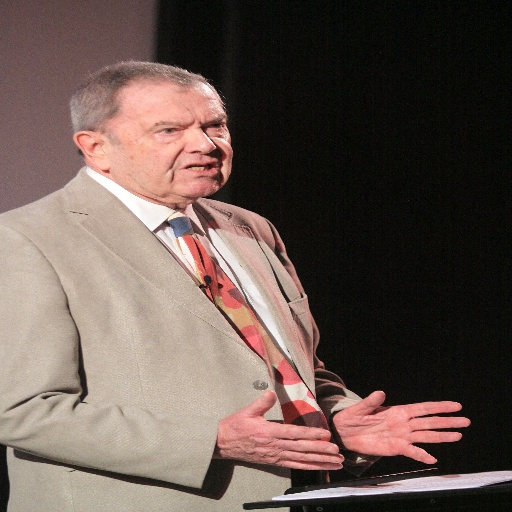hand: (315, 391, 489, 465), (213, 388, 344, 472)
